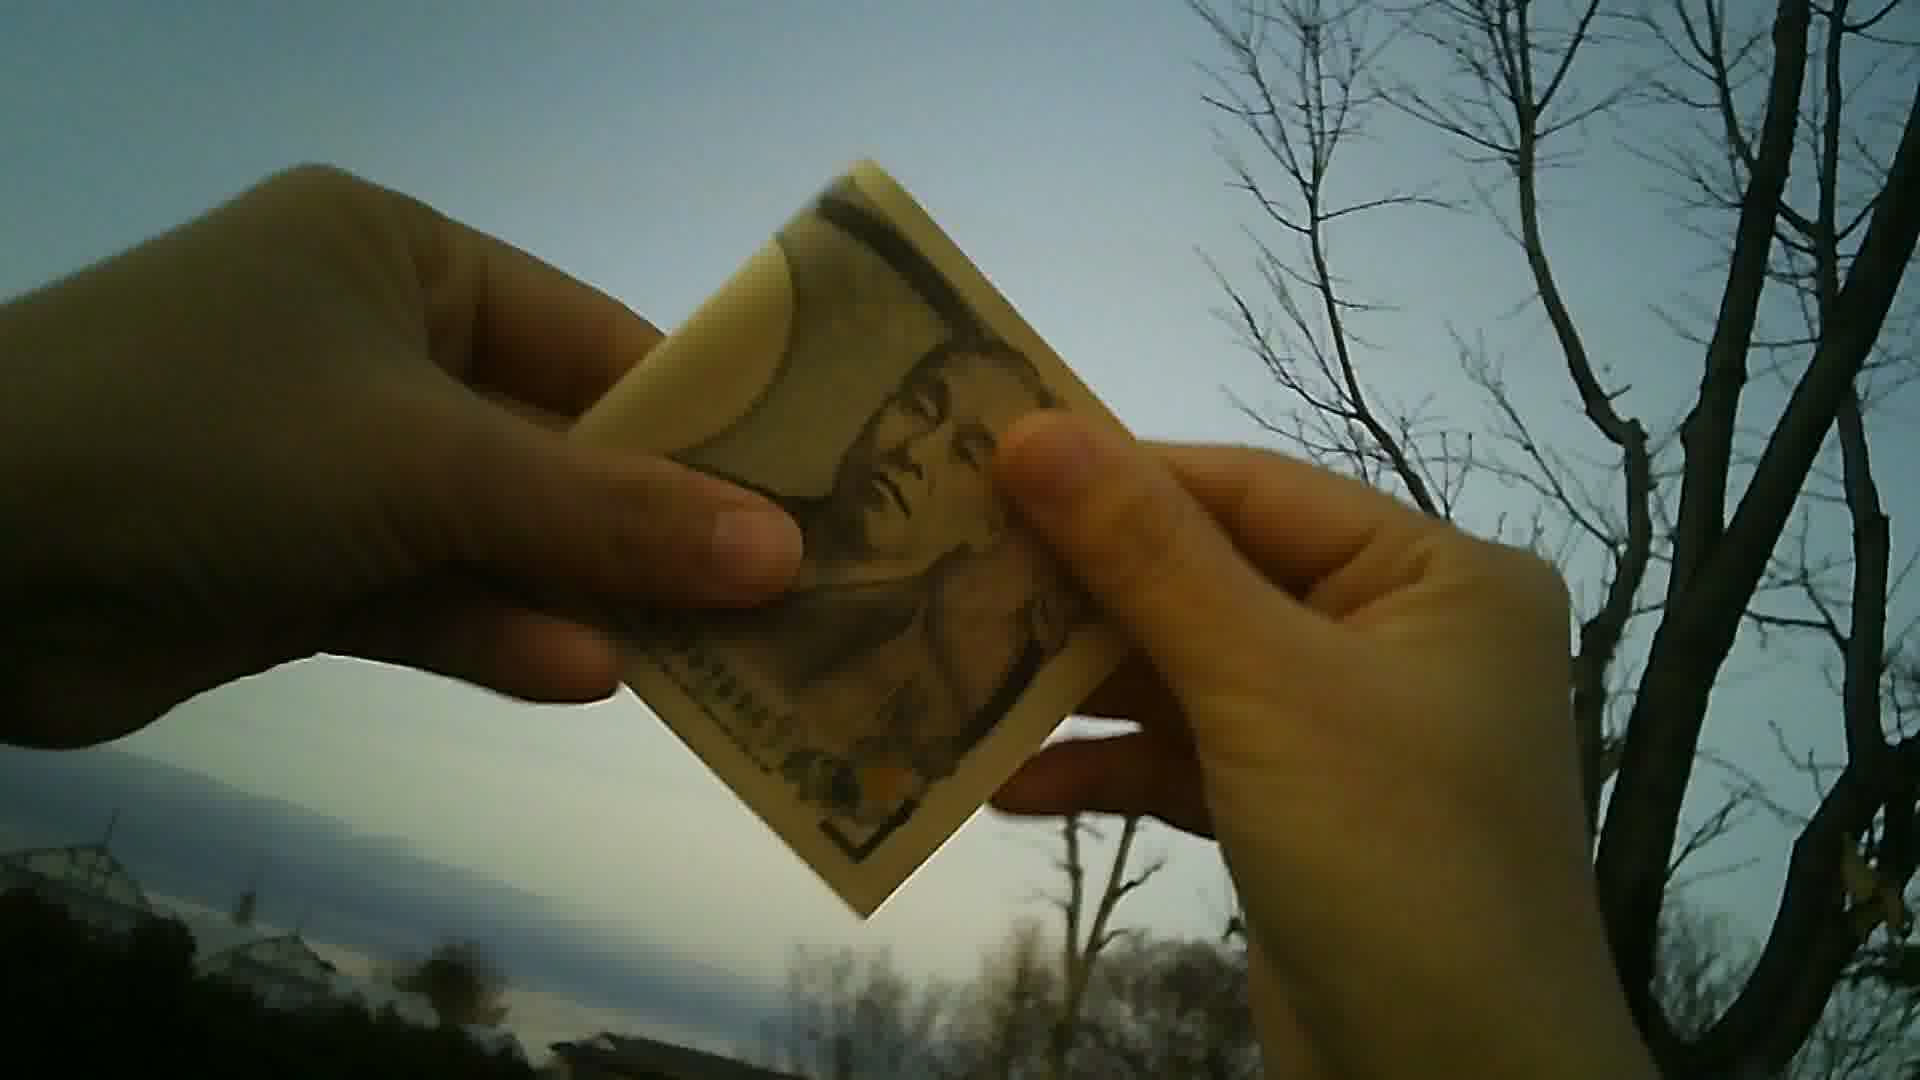10,000 Yen: (516, 146, 1221, 932)
